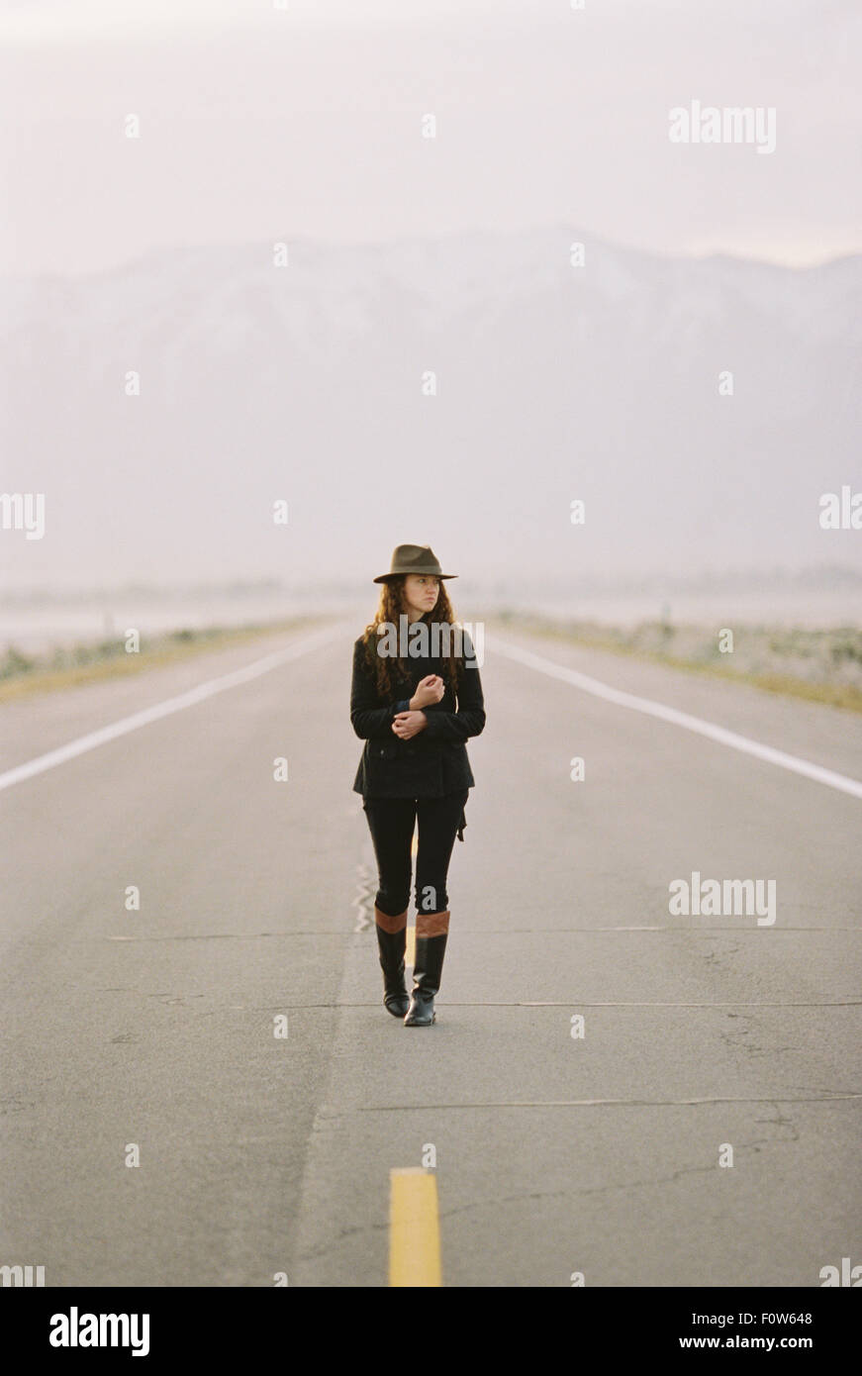Person: (324, 540, 502, 1035)
